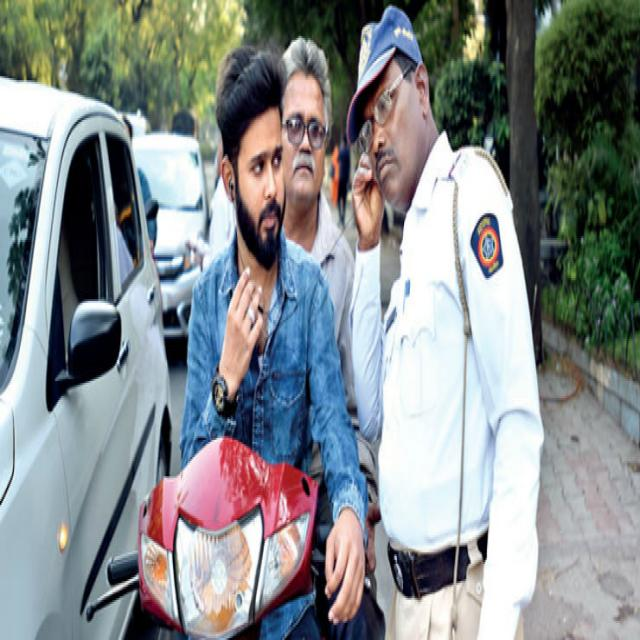Not Wearing Helmet: (196, 64, 300, 263)
